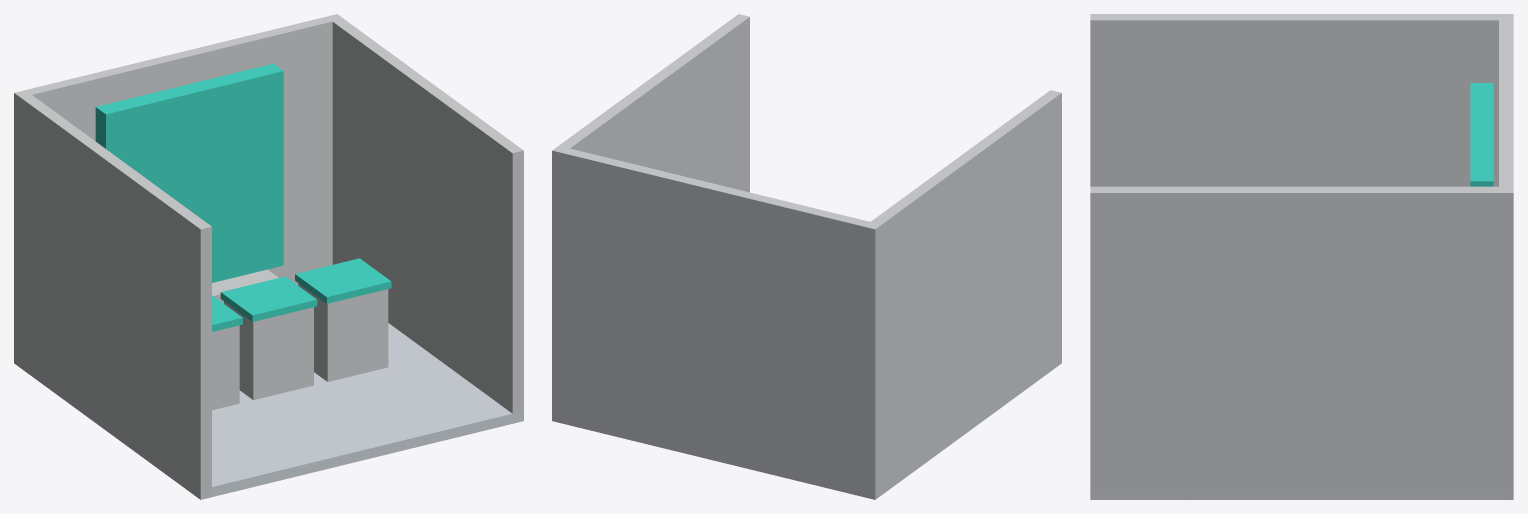
3 renders of one model, left to right at view 1: azimuth 30°, elevation 25°; view 2: azimuth 150°, elevation 25°; view 3: azimuth 270°, elevation 25°, orthographic. The views are drawn at different scales.
Parts seen in each view (by area): view 1: Exhibition Booth Concept; view 2: Exhibition Booth Concept; view 3: Exhibition Booth Concept.
Boxes of the visible parts, x1,y1,x2,y2 form: Exhibition Booth Concept: (14,14,523,499); Exhibition Booth Concept: (552,14,1061,499); Exhibition Booth Concept: (1090,14,1513,499).
Size of the model in its own units: 4 by 3.2 by 4.
